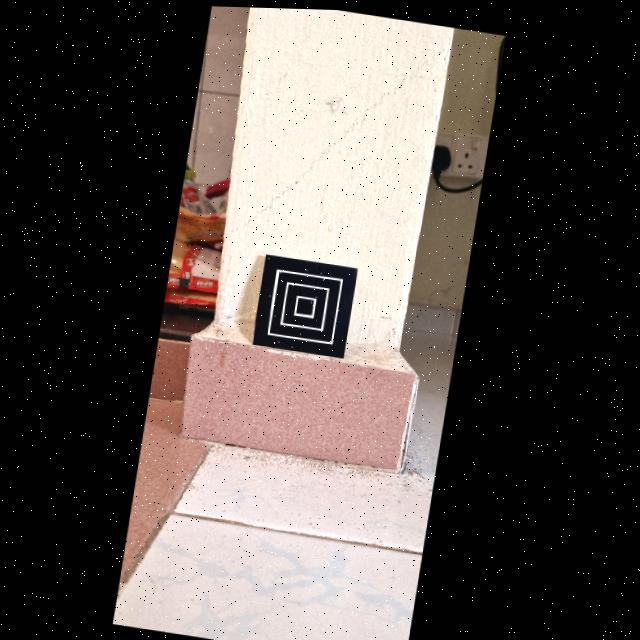BULLSEYE: (254, 252, 358, 355)
